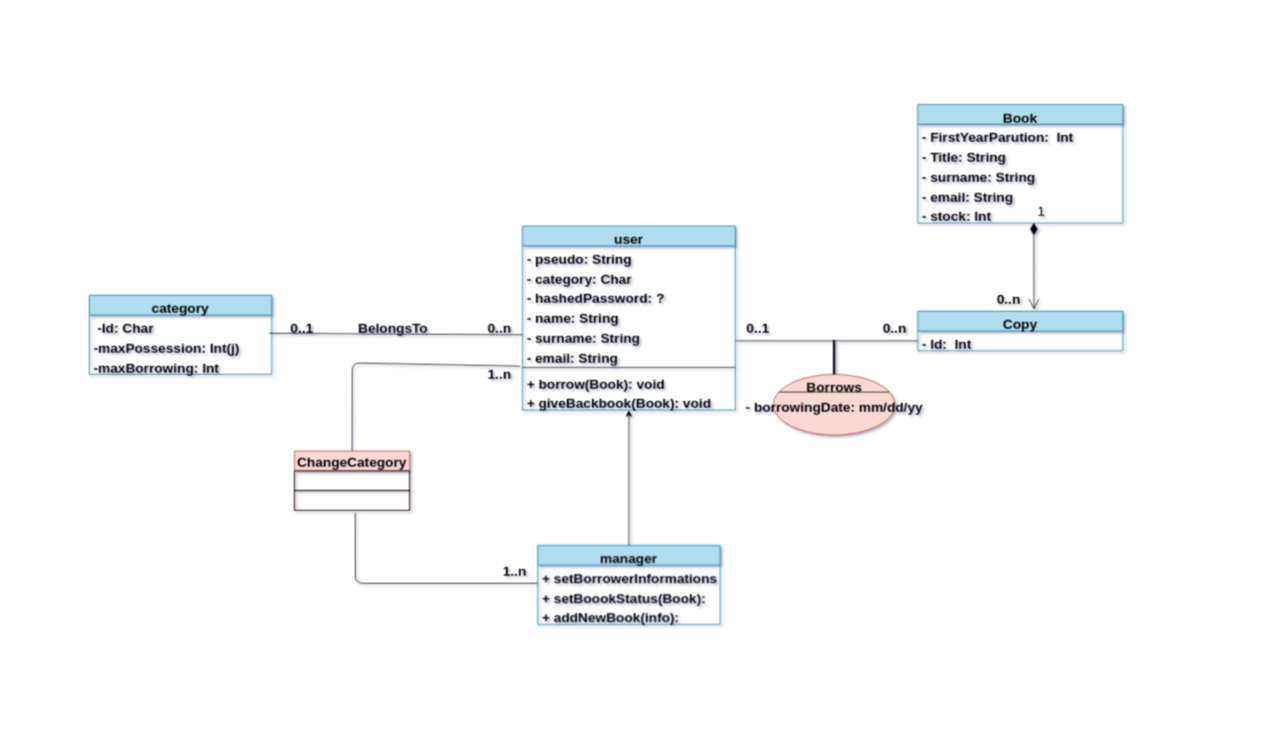
This 1277x730 diagram has some shape labels left out. Each missing label, with the centre of its shape:
"changingDate: mm/dd/yy" belongs at (x=352, y=480).
"newUserCategory: Char" belongs at (x=352, y=500).
